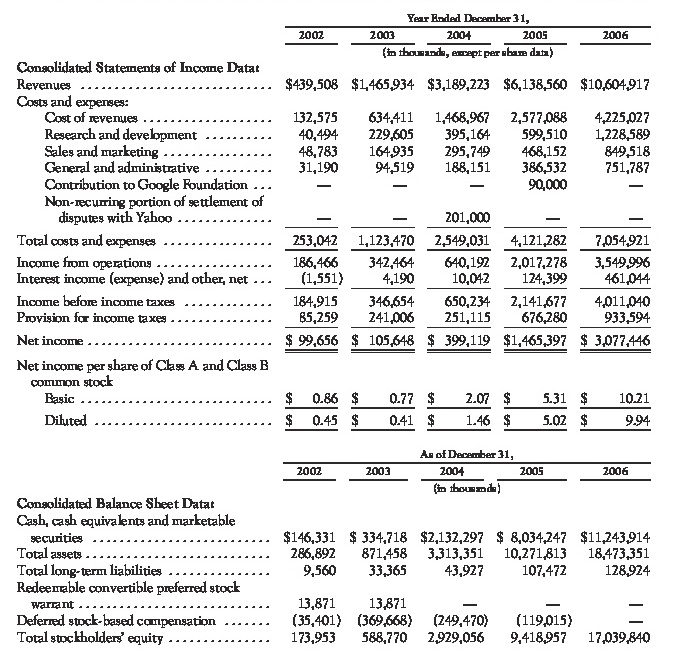table: (0, 0, 695, 663)
